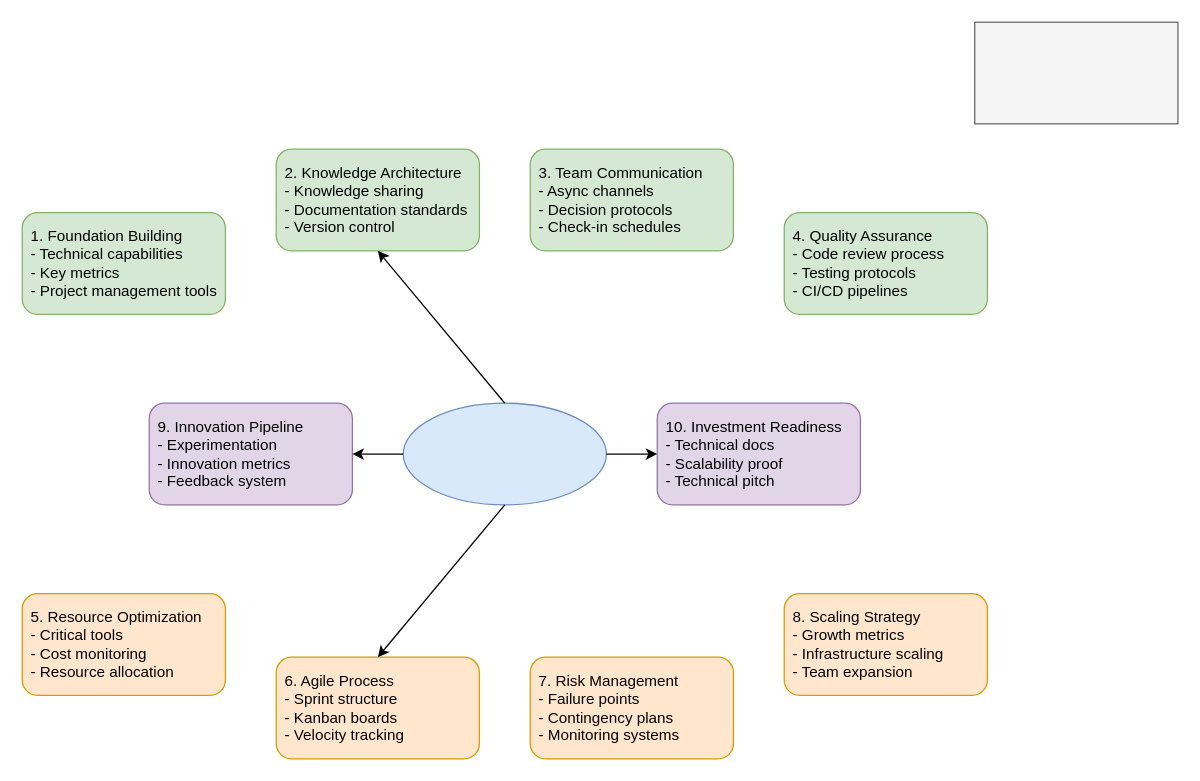
The diagram is 1200 pixels wide and 781 high, and some of its shapes have lost their labels. The centre of each missing label's shape, as x and y in pixels:
Legend: Green: Foundation Phase Orange: Growth Phase Purple: Innovation Phase: pixel 1075 72
Software Development Management Plan: pixel 504 453
